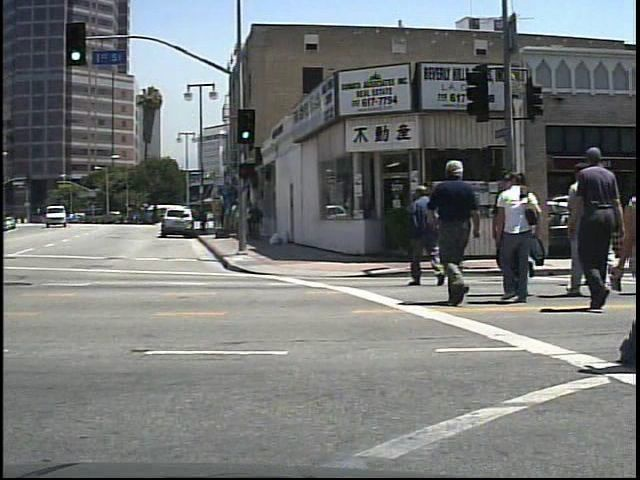person: (567, 143, 625, 315), (424, 153, 485, 311), (493, 167, 545, 309)
